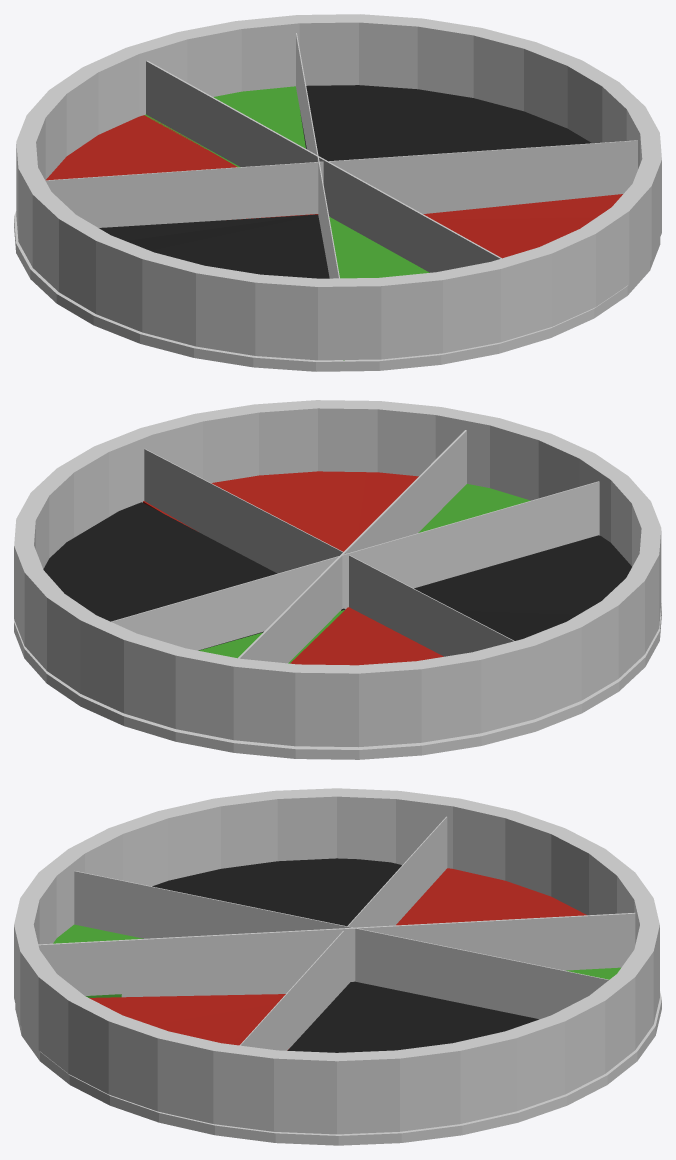
File: roulette.dae
3 renders of one model, top to bottom at view 1: azimuth 30°, elevation 25°; view 2: azimuth 150°, elevation 25°; view 3: azimuth 270°, elevation 25°, orthographic.
Visible parts, largest first — view 1: Cylinder, Cube_008, Cube_007, Cube_002, Cube_005, Cylinder_001, Cube_004, Cube, Cube_003, Cube_001, Cube_006; view 2: Cylinder, Cube_006, Cube_008, Cube_002, Cube_005, Cube_007, Cube, Cylinder_001, Cube_004, Cube_001, Cube_003; view 3: Cylinder, Cube_007, Cube_006, Cube_002, Cube_005, Cube_008, Cylinder_001, Cube_004, Cube, Cube_001.
Boxes of the visible parts, x1,y1,x2,y2 form: Cylinder: [16, 14, 661, 360]; Cube_008: [45, 140, 637, 227]; Cube_007: [146, 60, 501, 272]; Cube_002: [300, 85, 591, 161]; Cube_005: [99, 214, 329, 278]; Cylinder_001: [14, 211, 660, 371]; Cube_004: [46, 115, 318, 219]; Cube: [423, 194, 622, 258]; Cube_003: [144, 86, 305, 167]; Cube_001: [329, 217, 429, 360]; Cube_006: [296, 33, 339, 278]; Cylinder: [14, 400, 661, 747]; Cube_006: [111, 481, 599, 650]; Cube_008: [144, 449, 514, 656]; Cube_002: [43, 502, 345, 650]; Cube_005: [414, 535, 631, 640]; Cube_007: [238, 430, 466, 663]; Cube: [143, 471, 418, 551]; Cylinder_001: [14, 603, 661, 759]; Cube_004: [290, 607, 443, 665]; Cube_001: [418, 484, 530, 532]; Cube_003: [199, 610, 344, 663]; Cylinder: [14, 788, 659, 1134]; Cube_007: [38, 912, 635, 997]; Cube_006: [74, 871, 608, 1019]; Cube_002: [287, 981, 538, 1052]; Cube_005: [152, 858, 401, 926]; Cube_008: [239, 816, 447, 1050]; Cylinder_001: [15, 991, 661, 1145]; Cube_004: [396, 868, 586, 925]; Cube: [89, 994, 289, 1050]; Cube_001: [53, 924, 143, 997].
Bounding box in the file's own units: 7.07 × 7.07 × 1.02.
